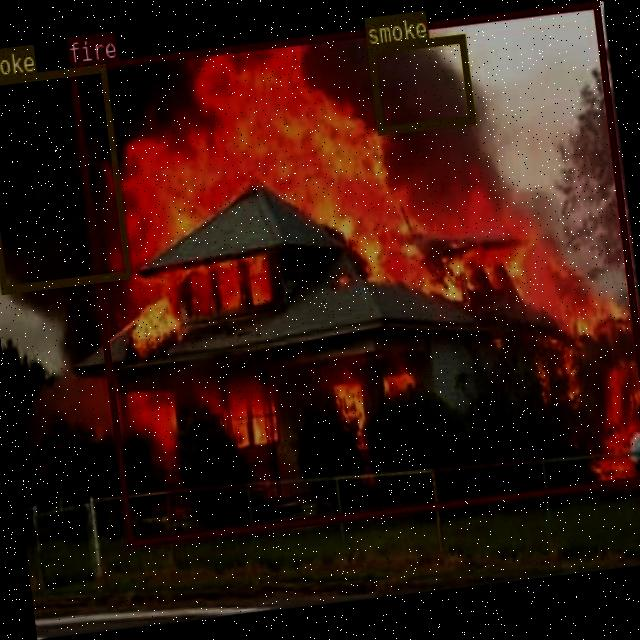fire: (68, 0, 640, 545)
smoke: (0, 63, 129, 291), (366, 34, 474, 134)
